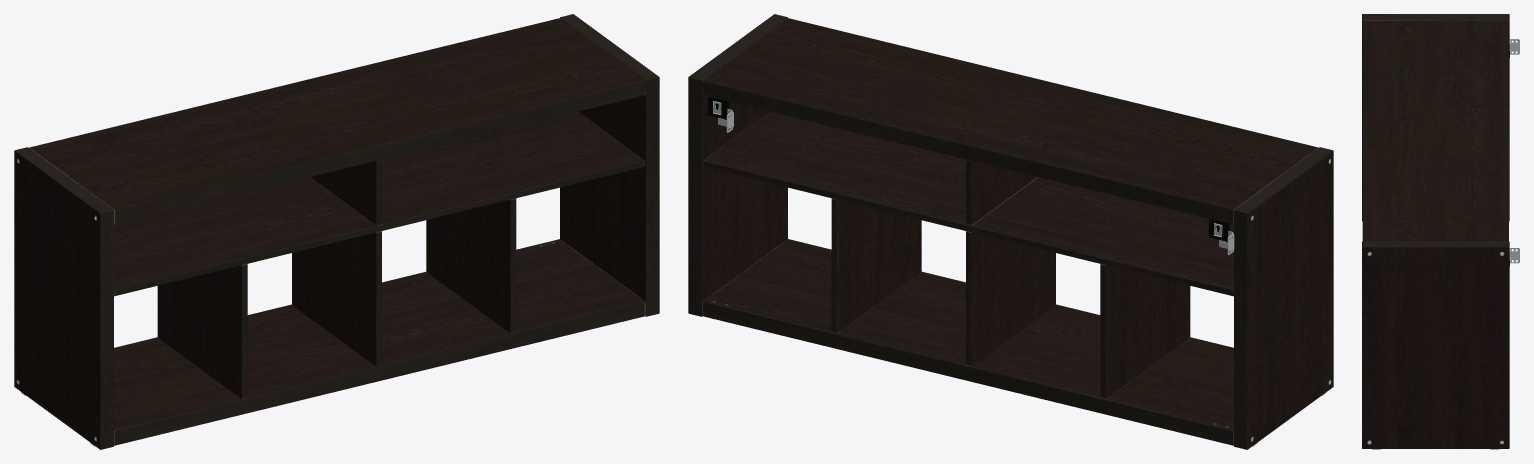
File: kallax_tv_unit_black_brown.glb
The picture shows the model from 3 angles, left to right: view 1: azimuth 30°, elevation 25°; view 2: azimuth 150°, elevation 25°; view 3: azimuth 270°, elevation 25°; orthographic projection. The views are drawn at different scales.
Visible parts, largest first — view 1: ASY_ART_10562090_S01_NV01; view 2: ASY_ART_10562090_S01_NV01; view 3: ASY_ART_10562090_S01_NV01.
Part boxes in pixels (left/top/right/bottom): ASY_ART_10562090_S01_NV01: left=14, top=14, right=659, bottom=449; ASY_ART_10562090_S01_NV01: left=688, top=14, right=1333, bottom=449; ASY_ART_10562090_S01_NV01: left=1362, top=14, right=1519, bottom=449.
Bounding box in the file's own units: 1.47 × 0.596 × 0.4195.
Materials: 1 (1 with a texture image).
